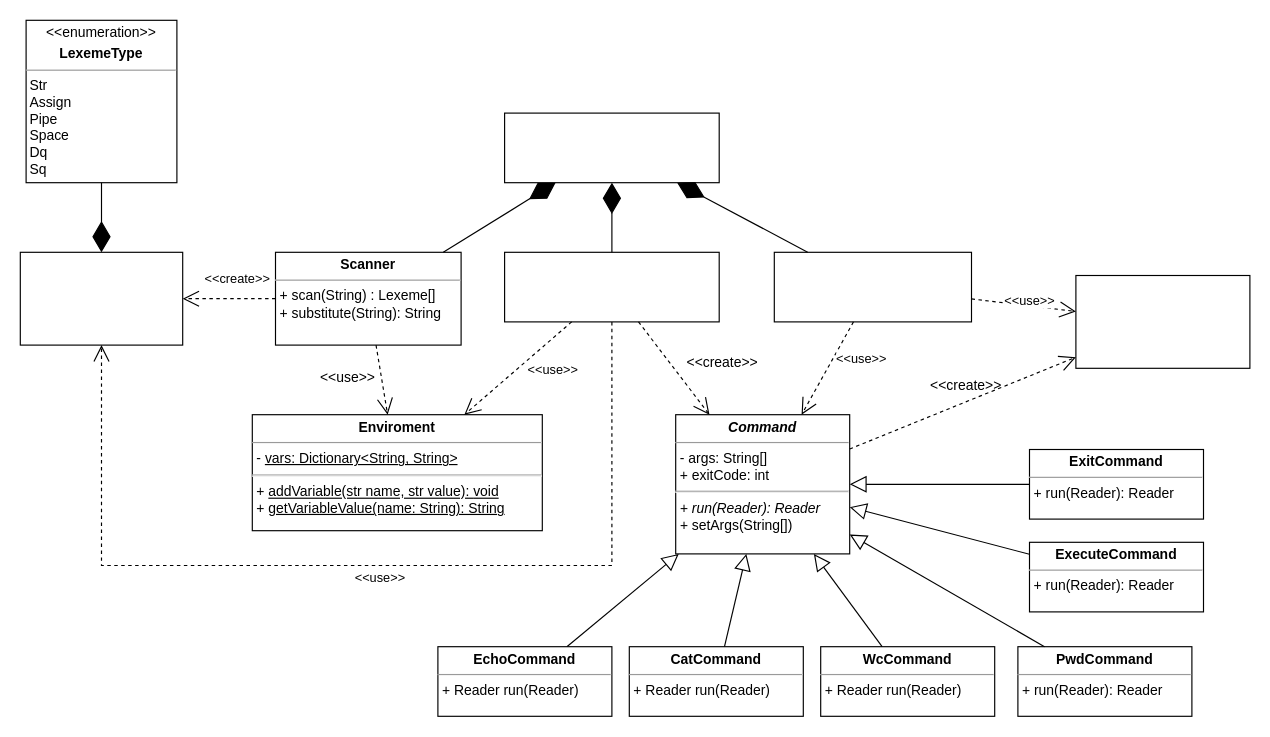
Image size: 1270x737. Some labels were removed from this diagram. Here are the shapes that lost their labels. From the top down, the centre of each, then its label:
At point (611, 147): "Interpreter + start(): void".
At point (101, 298): "Lexeme + view: String + type: LexemeType".
At point (611, 286): "Parser + parse(Lexeme[]): Command[]".
At point (872, 286): "Runner + run(Command[]): Reader".
At point (1162, 321): "CLIException + isExit: bool".
